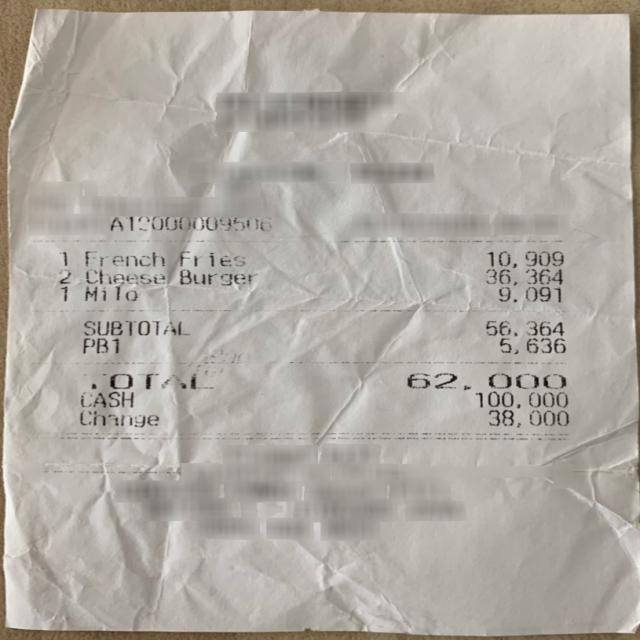text: (406, 373, 564, 392), (110, 215, 270, 232), (82, 371, 215, 390), (82, 319, 190, 335), (473, 390, 566, 407), (485, 408, 568, 426), (79, 407, 157, 426), (179, 268, 258, 286), (485, 318, 563, 336), (485, 267, 562, 285), (83, 249, 164, 266), (84, 268, 165, 285), (487, 250, 561, 267), (497, 336, 565, 354), (177, 249, 246, 266), (498, 284, 558, 301), (79, 388, 132, 407), (84, 285, 138, 301), (81, 336, 120, 354), (56, 268, 71, 284), (58, 285, 69, 302), (58, 249, 69, 265)
